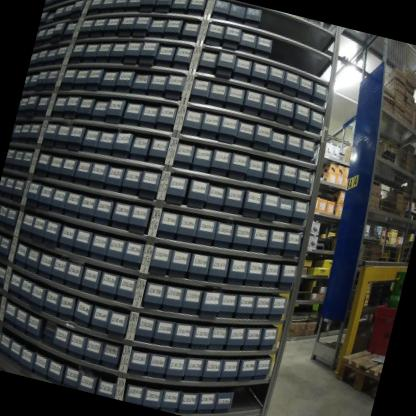pallet: (329, 333, 387, 402)
small_load_carrier: (362, 297, 398, 355)
